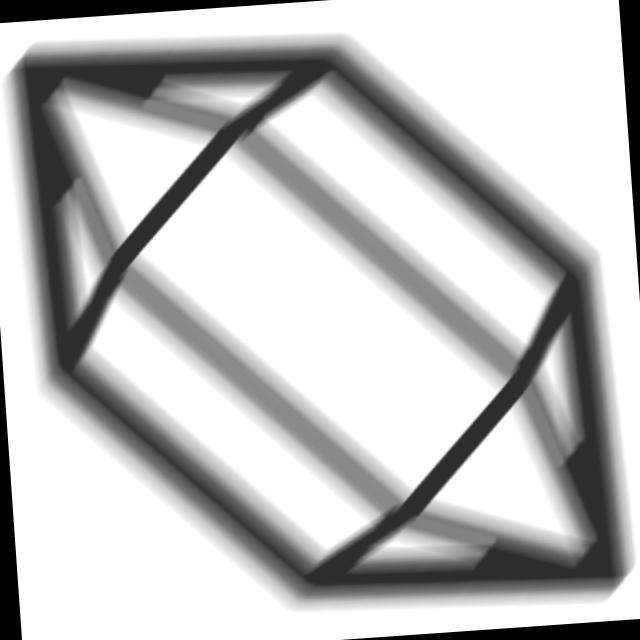crystal: (4, 1, 640, 640)
